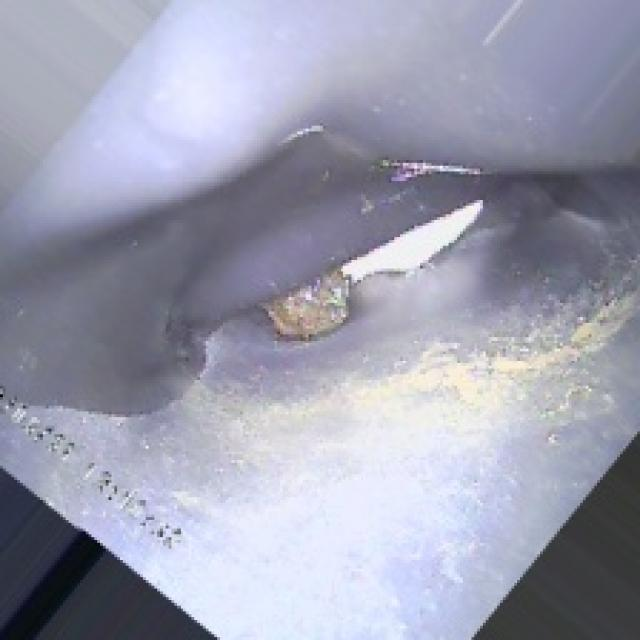shape_deformation: (68, 106, 583, 420)
